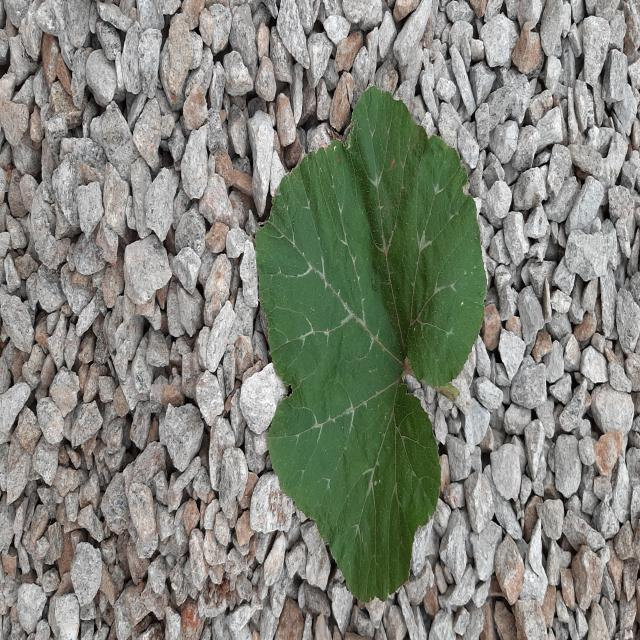pumpkin: (256, 87, 486, 599)
